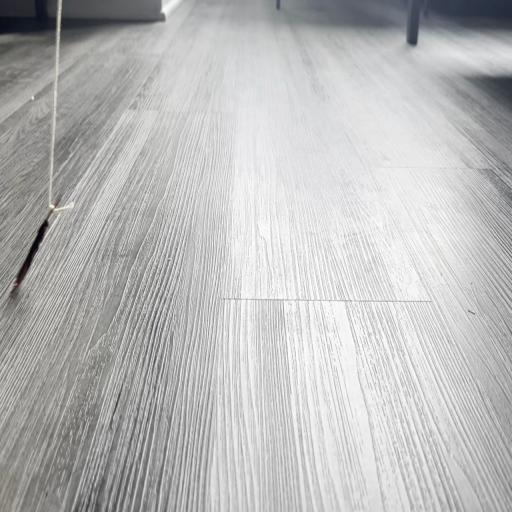cockroach: (11, 219, 51, 292)
